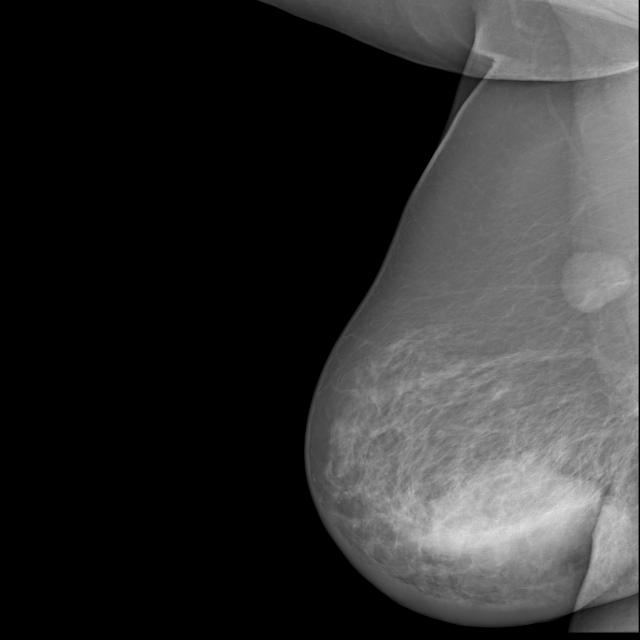Mass_1: (393, 443, 629, 584)
